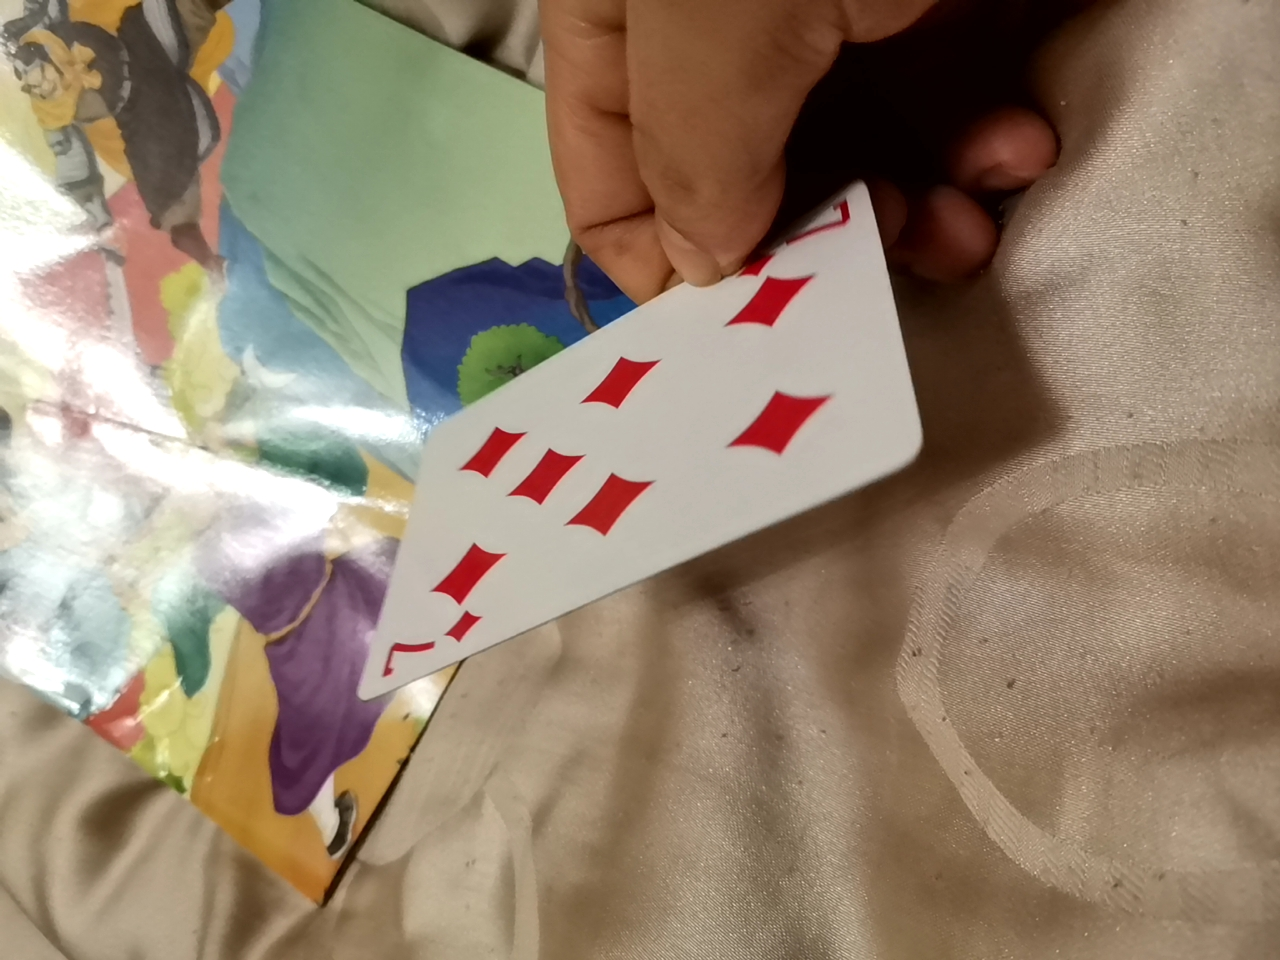fk 7: (355, 256, 925, 688)
